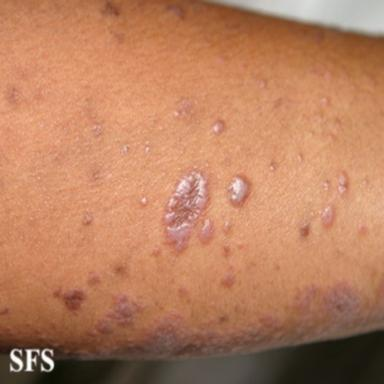lichen: (74, 280, 384, 359), (162, 171, 208, 257), (87, 292, 143, 338), (228, 175, 251, 206), (63, 288, 85, 310), (164, 2, 189, 20), (6, 85, 22, 109), (199, 219, 214, 243), (221, 266, 235, 287), (322, 205, 335, 227), (103, 0, 120, 16), (337, 171, 348, 195), (178, 285, 191, 302), (212, 120, 226, 134), (113, 263, 128, 276), (299, 222, 310, 237), (88, 275, 101, 287), (223, 244, 233, 257), (358, 221, 367, 235), (83, 214, 93, 225), (223, 221, 231, 234), (151, 247, 161, 256), (269, 161, 277, 172), (53, 286, 61, 297), (258, 80, 267, 89), (297, 152, 304, 163), (323, 180, 329, 191), (141, 196, 147, 206)
